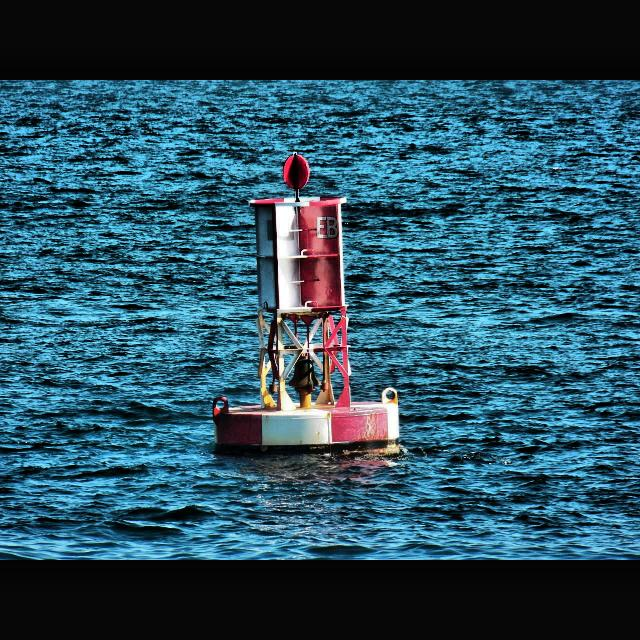buoy: (205, 151, 407, 463)
